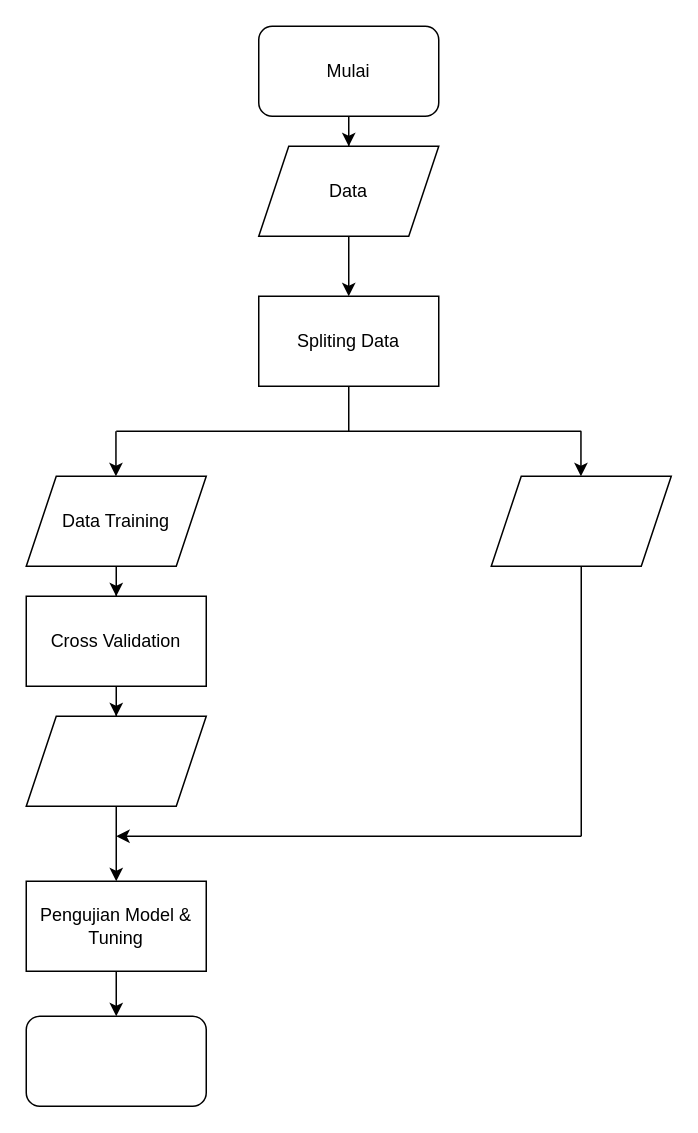
The diagram is 698 pixels wide and 1133 high, and some of its shapes have lost their labels. The centre of each missing label's shape, as x and y in pixels:
"Data Testing" goes at [580,520].
"Pelatihan Model" goes at [115,760].
"Selesai" goes at [115,1060].
